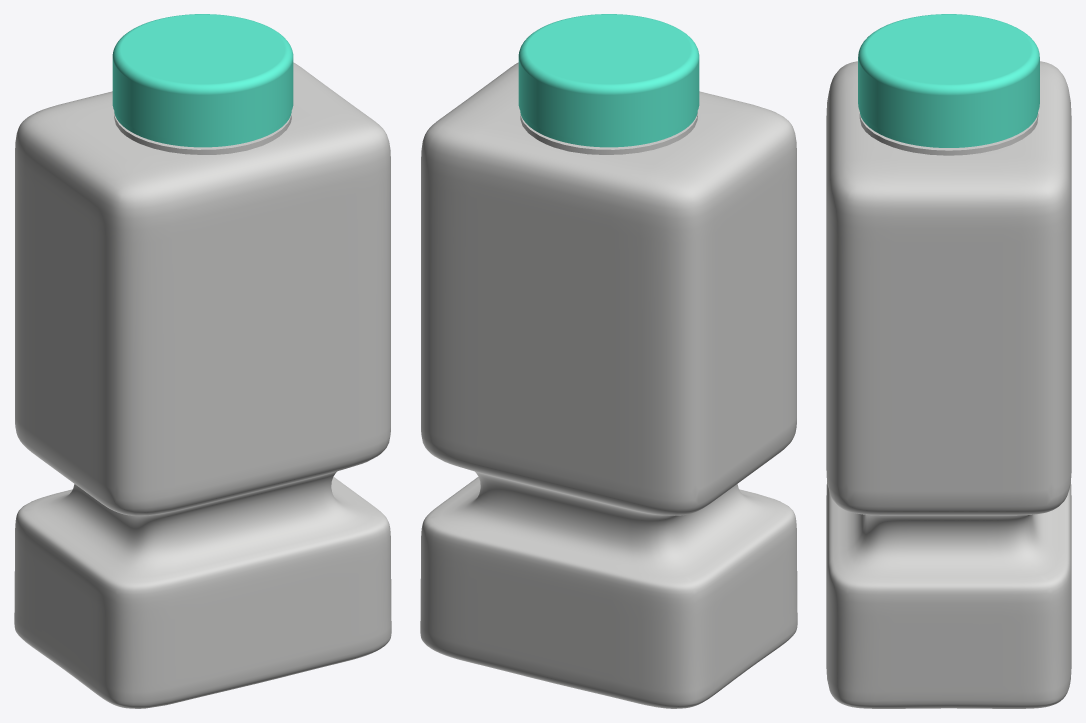
The model's file is 295_ブラシクリーナーボトル.glb.
The picture shows the model from 3 angles, left to right: view 1: azimuth 30°, elevation 25°; view 2: azimuth 150°, elevation 25°; view 3: azimuth 270°, elevation 25°; orthographic projection.
Visible parts, largest first — view 1: Body, キャップ; view 2: Body, キャップ; view 3: Body, キャップ.
Boxes of the visible parts, x1,y1,x2,y2 form: Body: [14, 62, 391, 708]; キャップ: [112, 14, 293, 147]; Body: [420, 62, 797, 708]; キャップ: [518, 14, 699, 147]; Body: [826, 61, 1071, 708]; キャップ: [858, 14, 1039, 147].
Bounding box in the file's own units: 0.059 × 0.1183 × 0.044.
